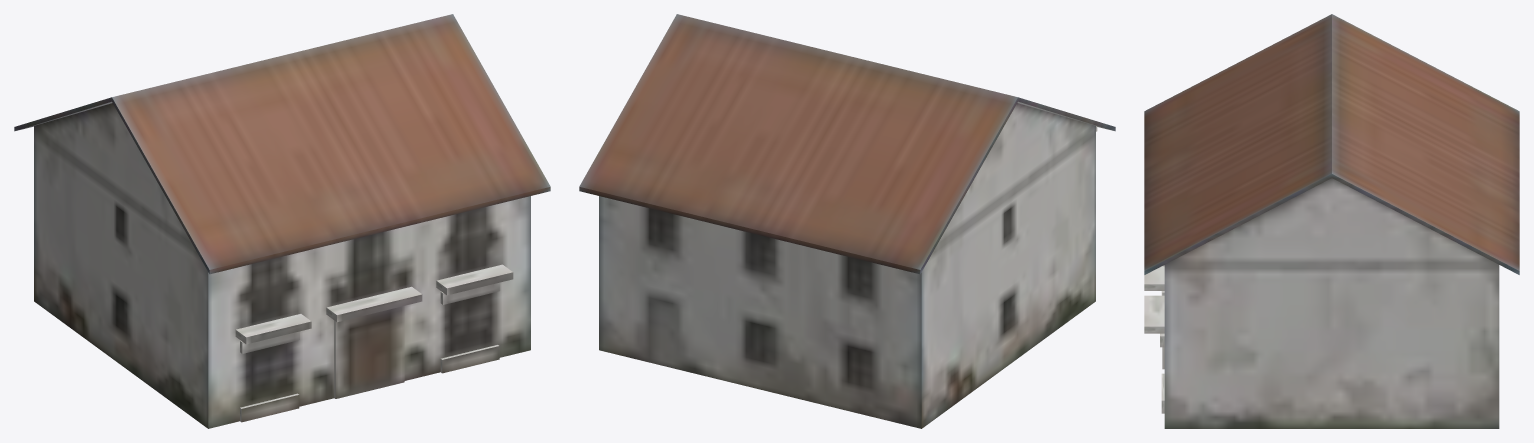
File: casa_dos_plantas_lejos.glb
3 views of the same model, side by side, from view 1: azimuth 30°, elevation 25°; view 2: azimuth 150°, elevation 25°; view 3: azimuth 270°, elevation 25° (orthographic). The views are drawn at different scales.
Visible parts, largest first — view 1: CD_Casa; view 2: CD_Casa; view 3: CD_Casa.
Boxes of the visible parts, x1=… form: CD_Casa: x1=14, y1=14, x2=550, y2=428; CD_Casa: x1=579, y1=14, x2=1115, y2=428; CD_Casa: x1=1144, y1=14, x2=1519, y2=428.
Size of the model in its own units: 12.1 by 9.16 by 12.
1 material, 1 textured.
